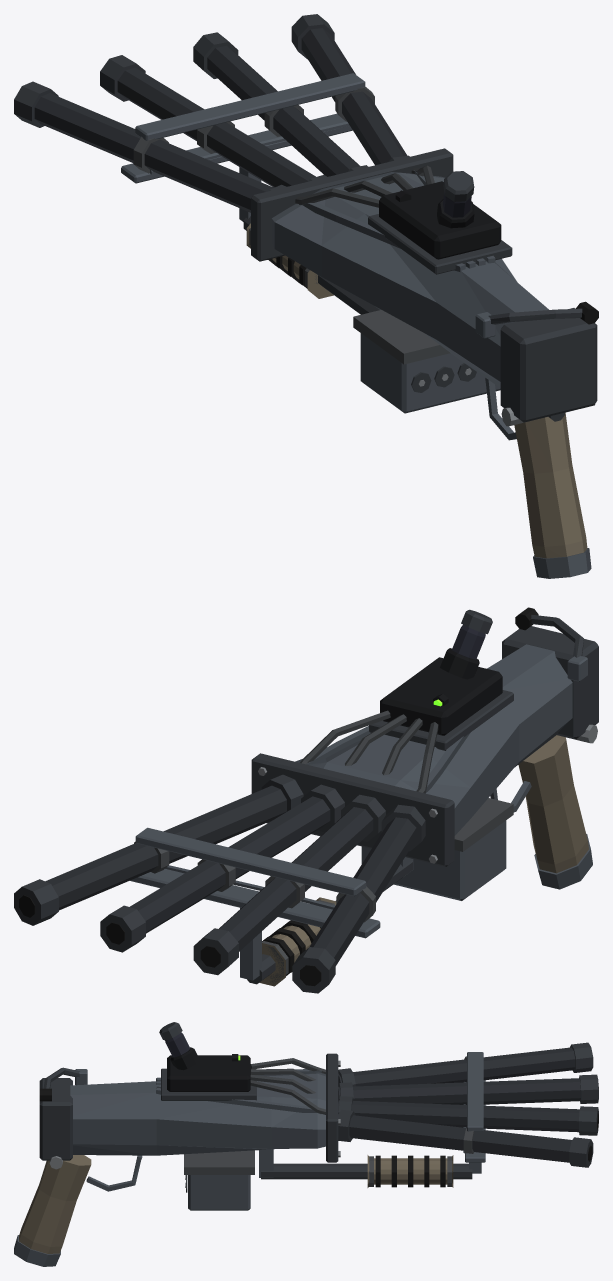
The model's file is bulkhead_d.glb.
3 views of the same model, one above another, from view 1: azimuth 30°, elevation 25°; view 2: azimuth 150°, elevation 25°; view 3: azimuth 270°, elevation 25° (orthographic). The views are drawn at different scales.
Visible parts, largest first — view 1: Body, Feed, Pump; view 2: Body, Feed, Pump; view 3: Body, Feed, Pump.
Boxes of the visible parts, x1,y1,x2,y2 form: Body: [14, 14, 598, 578]; Feed: [353, 310, 500, 413]; Pump: [246, 223, 333, 298]; Body: [14, 607, 598, 993]; Feed: [361, 798, 513, 900]; Pump: [259, 897, 336, 986]; Body: [14, 1022, 598, 1266]; Feed: [184, 1150, 254, 1210]; Pump: [367, 1155, 453, 1187].
Size of the model in its own units: 0.2435 by 0.2506 by 0.5598.
